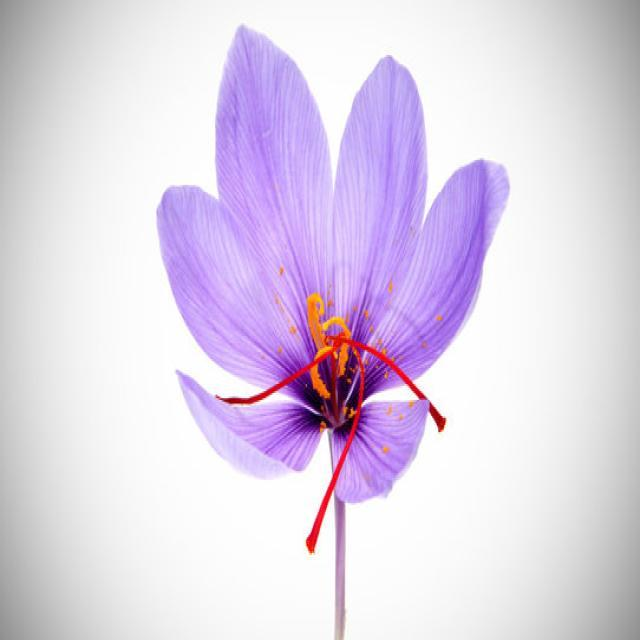Flower: (193, 93, 457, 511)
stigma: (347, 338, 451, 438), (302, 411, 360, 557), (212, 352, 332, 408)
